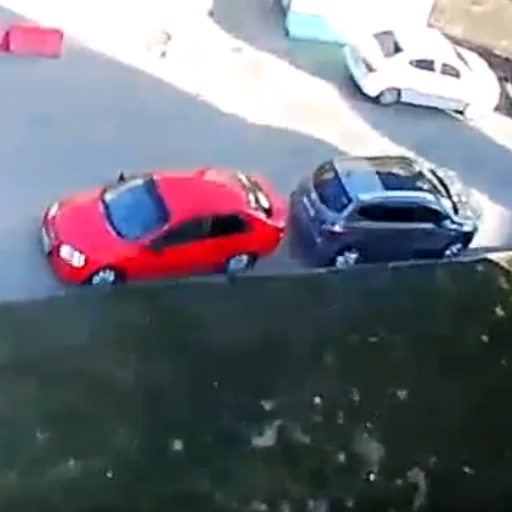Car: (36, 160, 286, 282), (286, 155, 476, 258), (345, 21, 501, 122)
